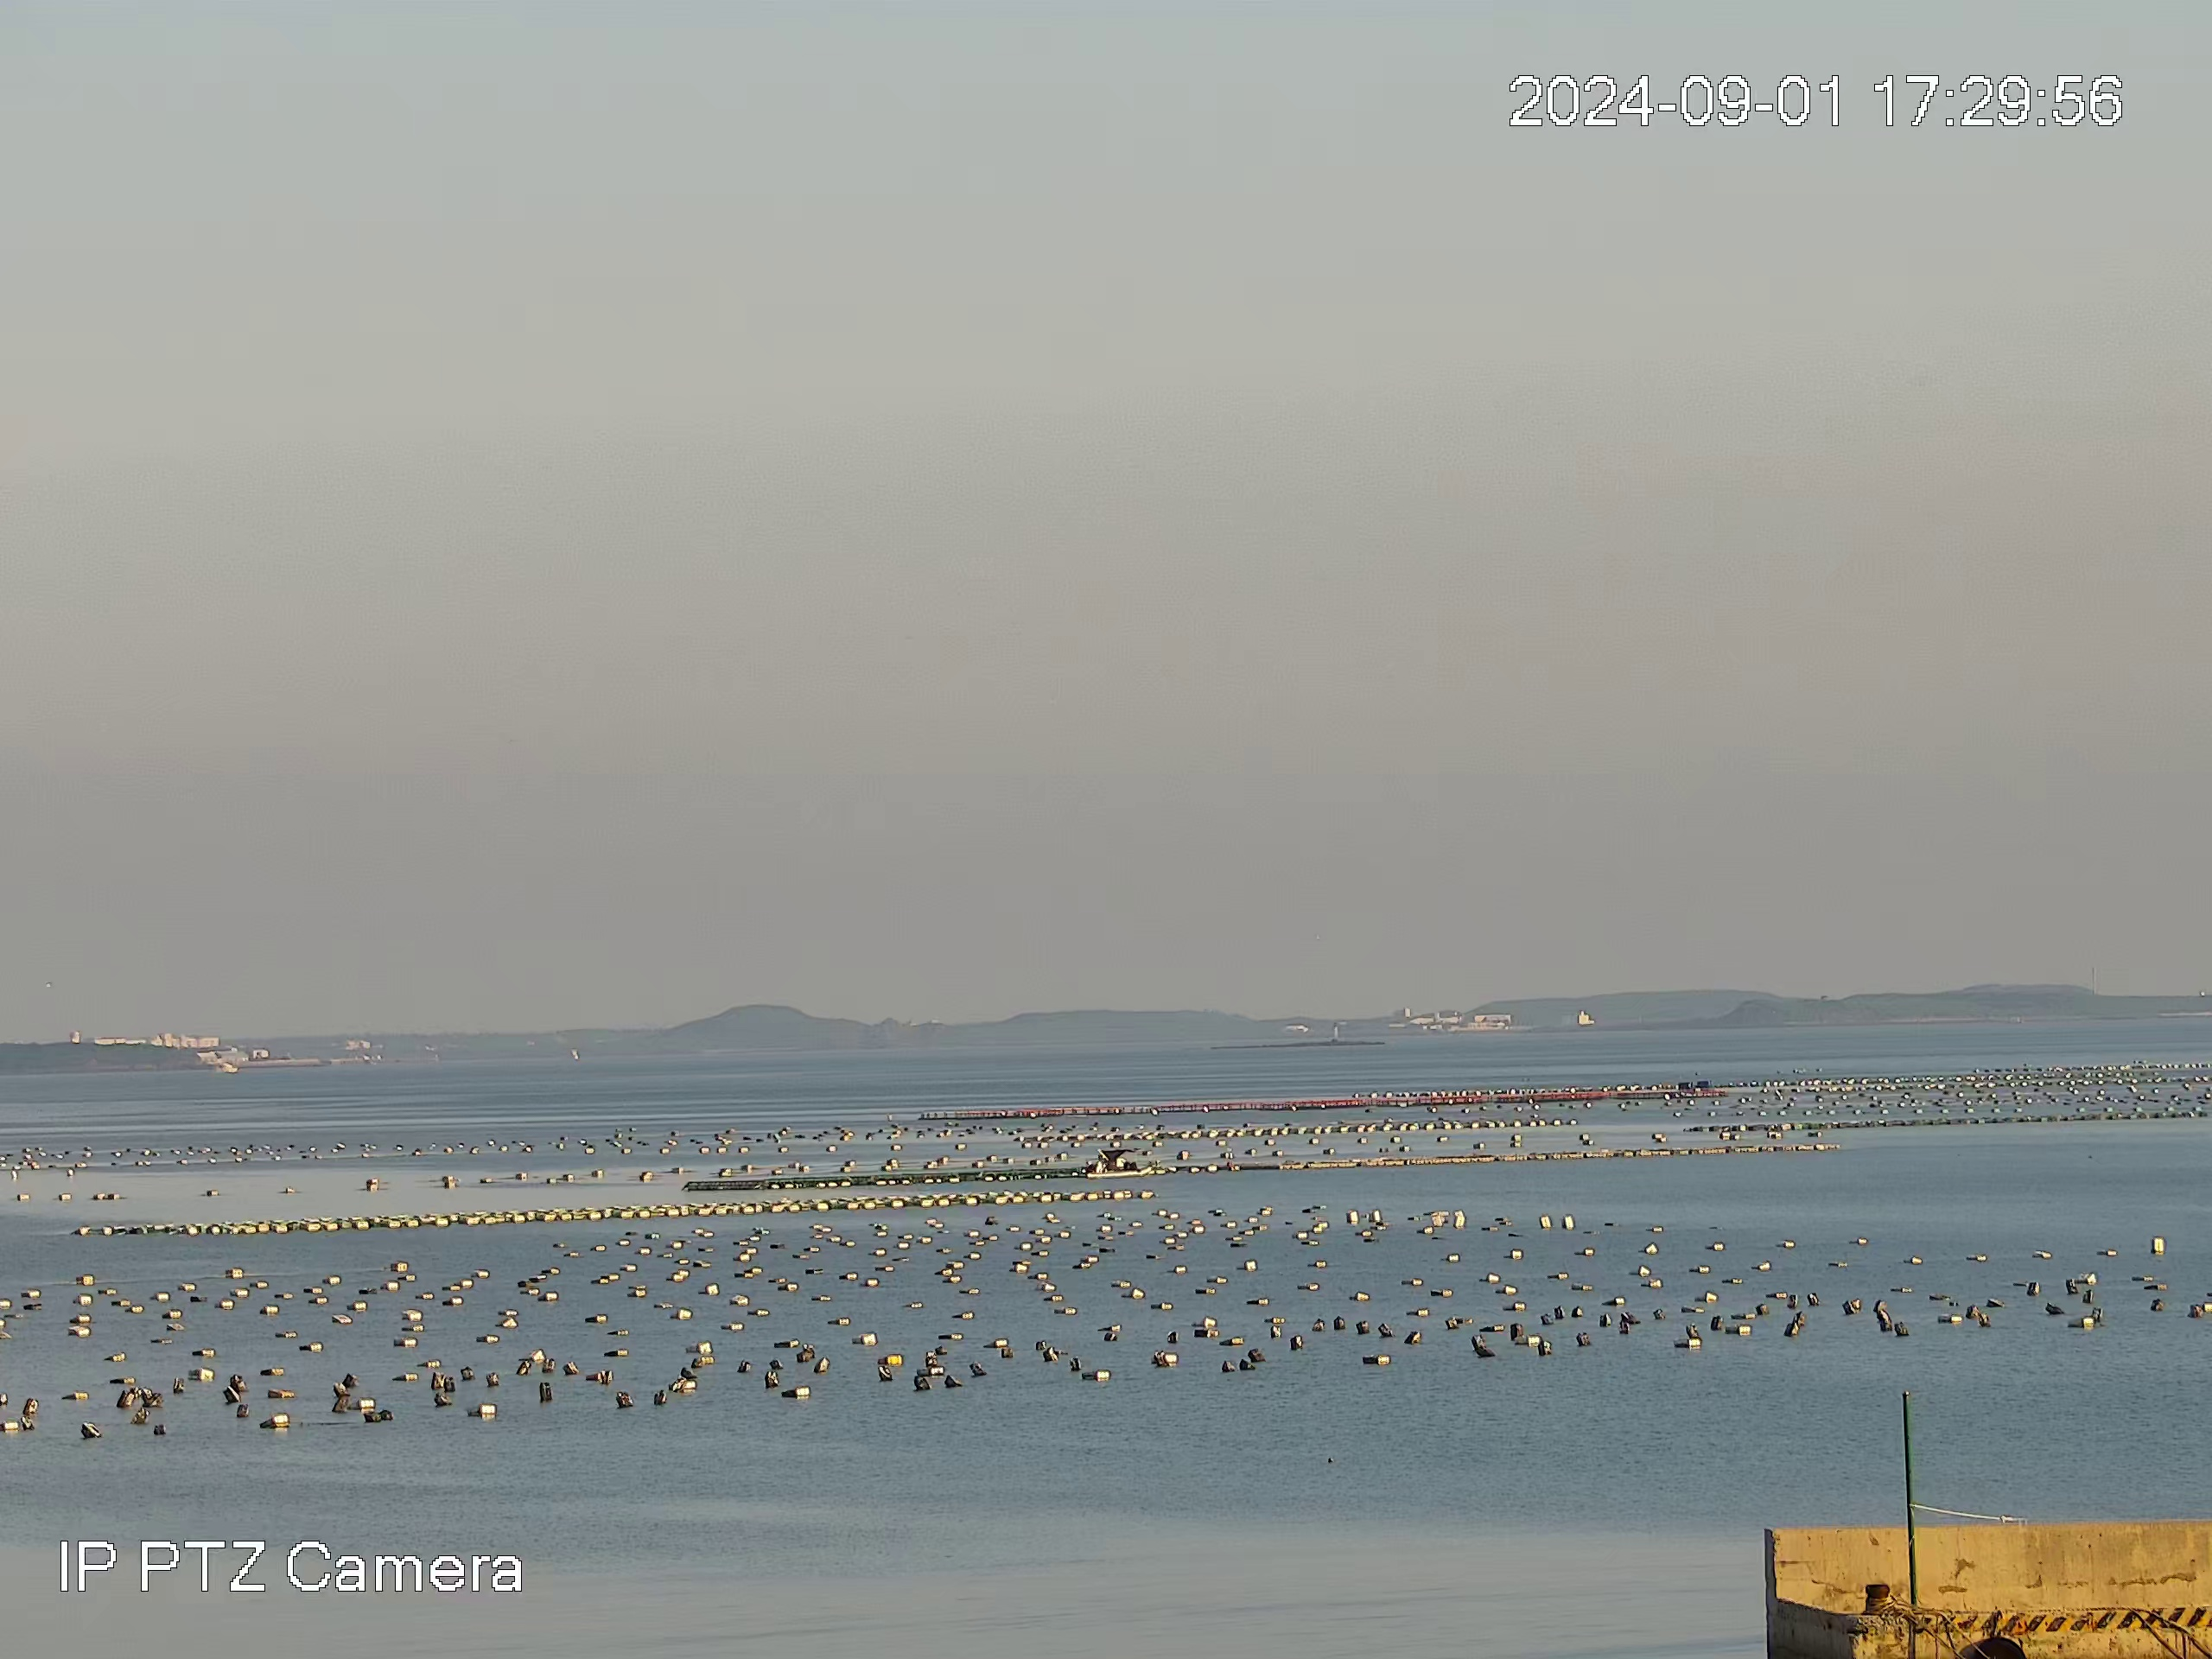boat: (1087, 1143, 1157, 1176)
